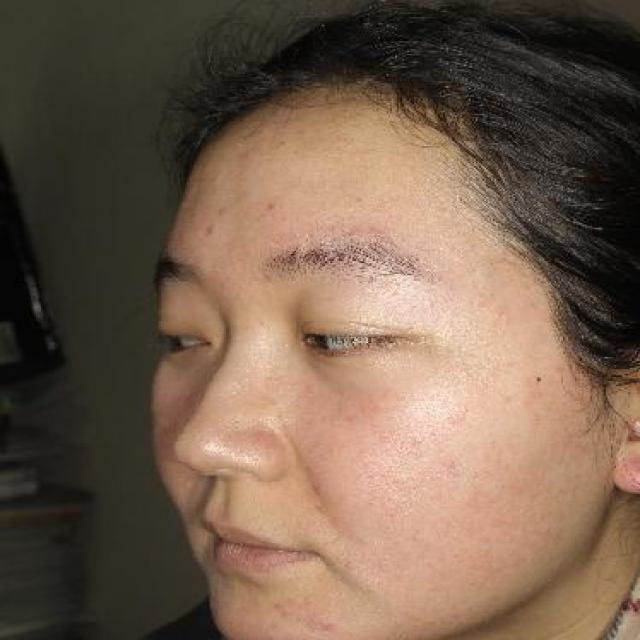blackheads: (529, 366, 556, 391)
dark spot: (211, 197, 236, 223), (195, 218, 219, 237)
pustules: (317, 612, 342, 634)
